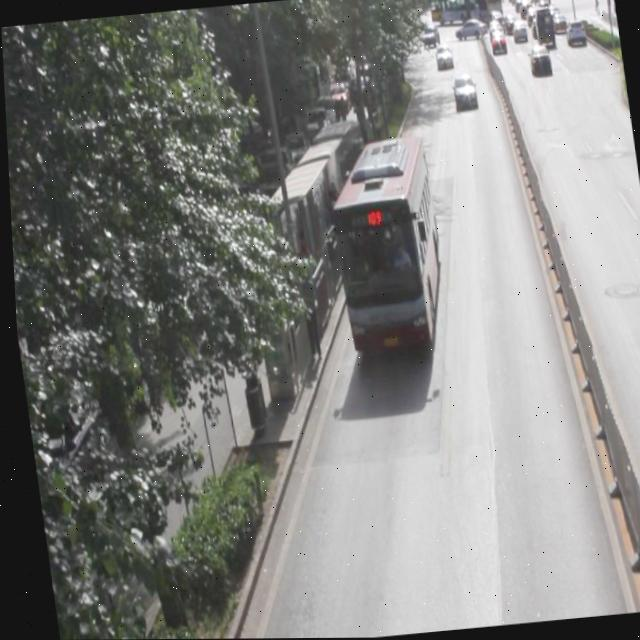car: (449, 74, 476, 111)
van: (322, 136, 446, 353)
